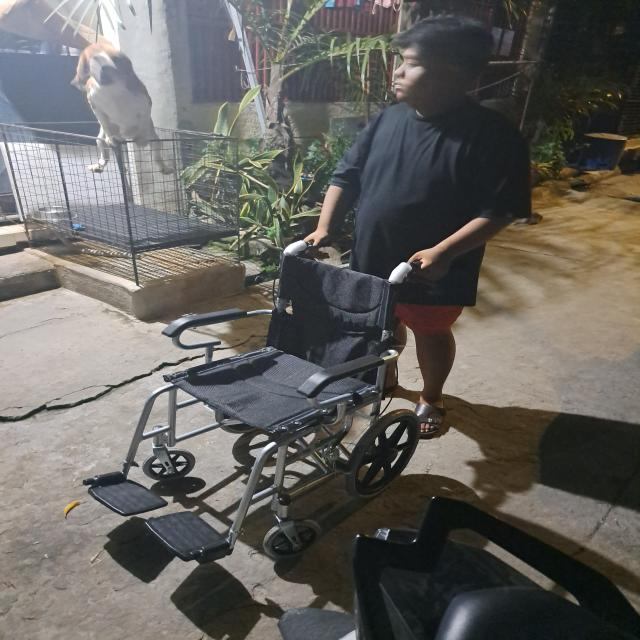wheelchairs: (89, 238, 428, 561)
